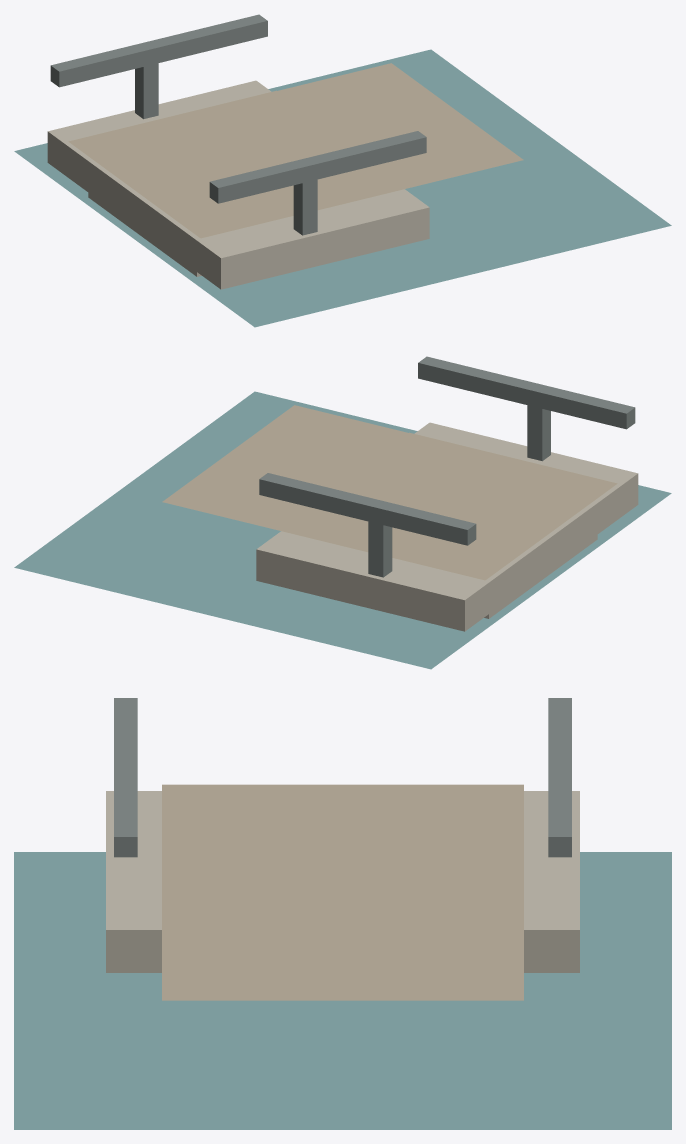
3 views of the same model, one above another, from view 1: azimuth 30°, elevation 25°; view 2: azimuth 150°, elevation 25°; view 3: azimuth 270°, elevation 25° (orthographic). The views are drawn at different scales.
Visible parts, largest first — view 1: Near; view 2: Near; view 3: Near.
Part boxes in pixels (<box>): Near: <box>14,14,671,327</box>; Near: <box>14,356,671,669</box>; Near: <box>14,698,671,1129</box>.
Size of the model in its own units: 1 by 0.258 by 1.
